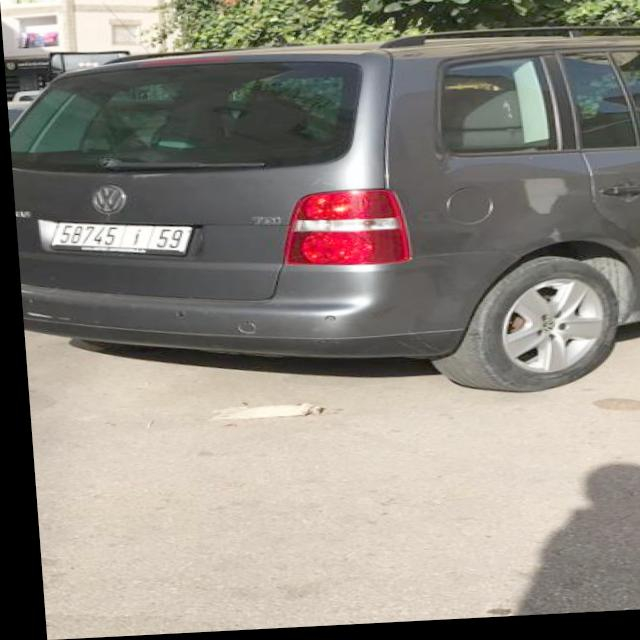License-Plate: (37, 222, 190, 256)
